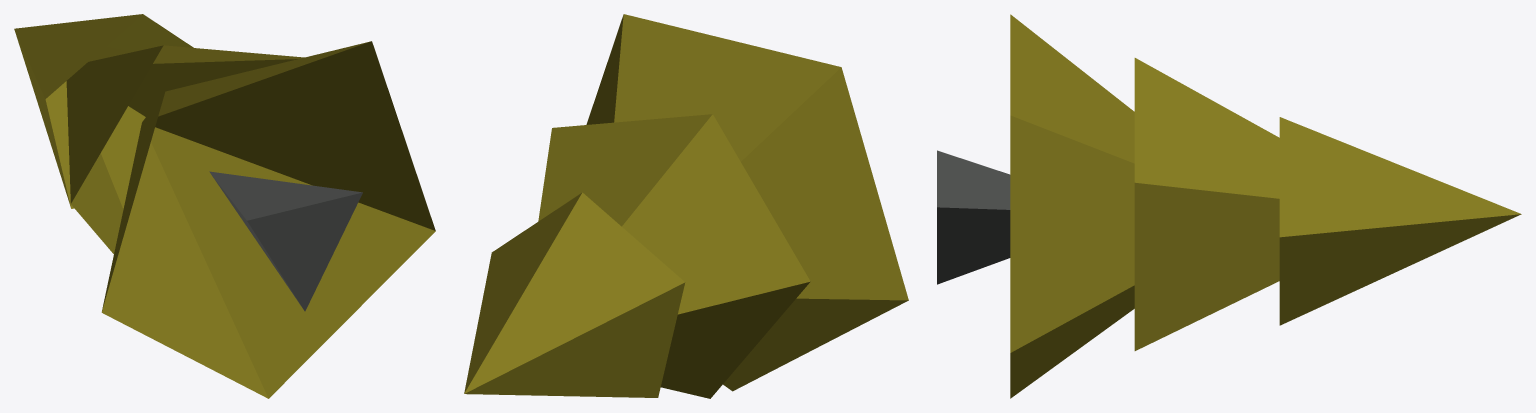
The model's file is Tree.fbx.
3 renders of one model, left to right at view 1: azimuth 30°, elevation 25°; view 2: azimuth 150°, elevation 25°; view 3: azimuth 270°, elevation 25°, orthographic. The views are drawn at different scales.
Visible parts, largest first — view 1: Circle; view 2: Circle; view 3: Circle.
Part boxes in pixels (bbox=[...]): Circle: bbox=[14, 14, 435, 398]; Circle: bbox=[464, 14, 908, 398]; Circle: bbox=[937, 14, 1521, 398].
Bounding box in the file's own units: 190 × 181 × 287.
